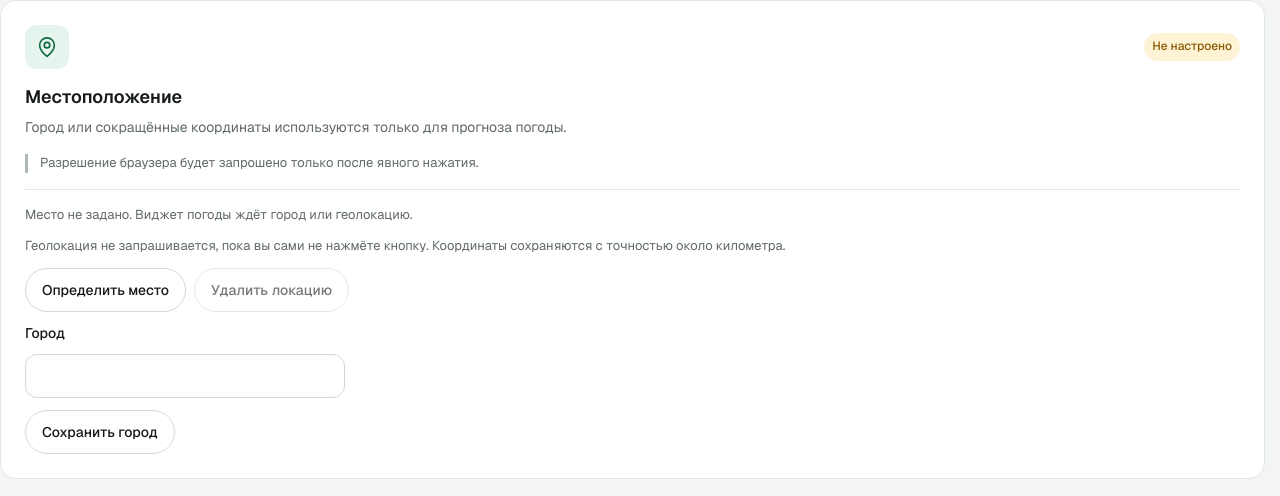
Scenario: сохранение места для погоды › записывает найденный город в аккаунт
In the field labelled "Город": (185, 376) [25,354,345,398], type "Москва"
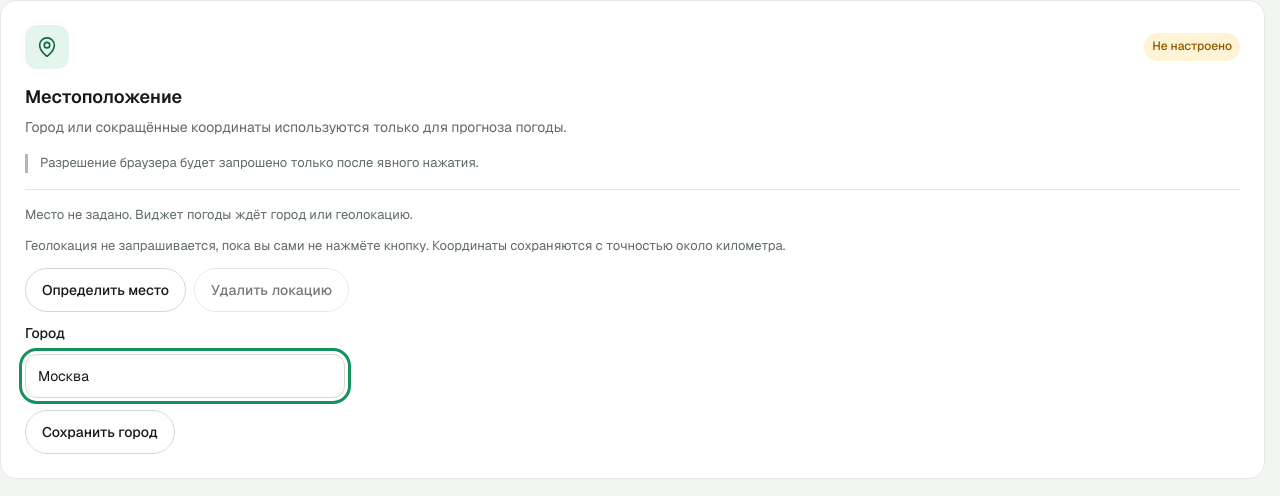
Click the button "Сохранить город": (100, 432) [25,410,175,454]
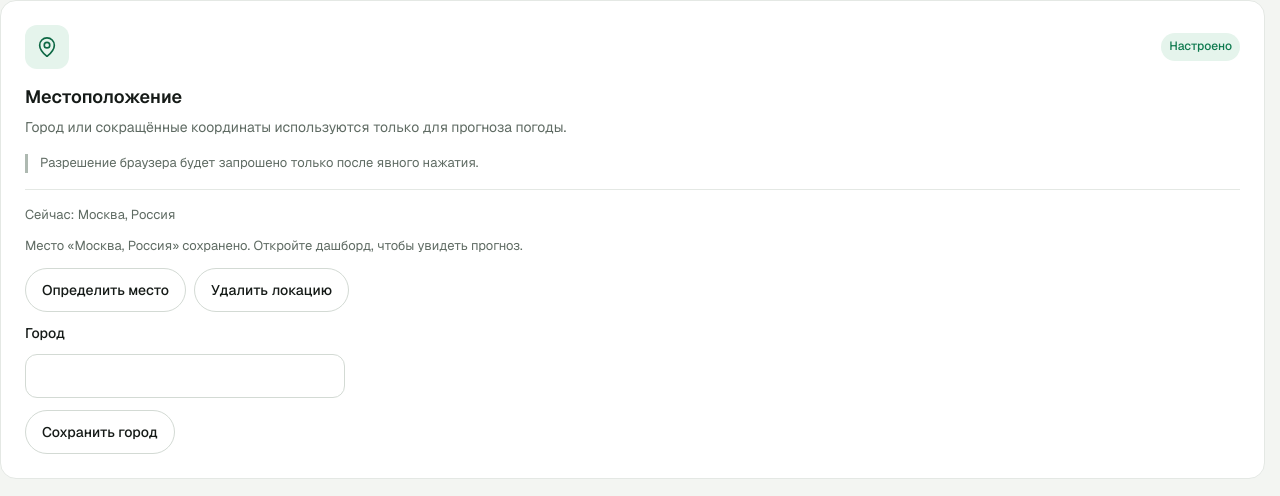
Expected: the text "Настроено" is shown, [1161,33,1240,61]
Expected: the text "Сейчас: Москва, Россия" is shown, [25,206,175,223]
